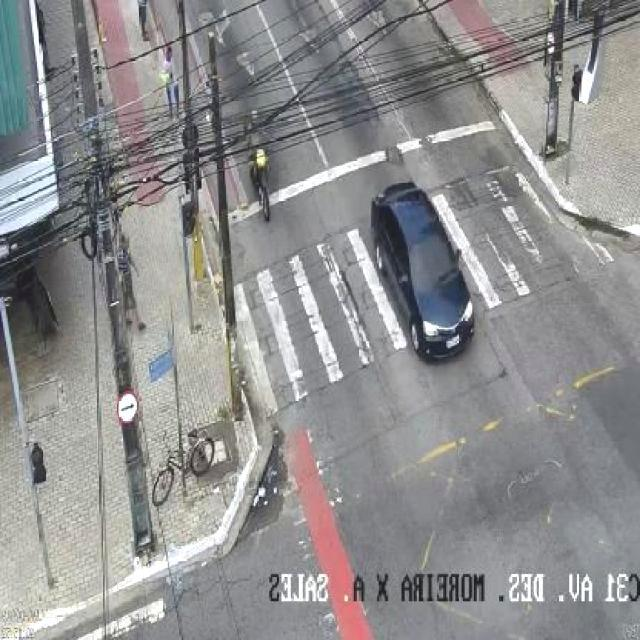Car: (370, 175, 479, 357)
Cycle: (246, 114, 278, 225)
